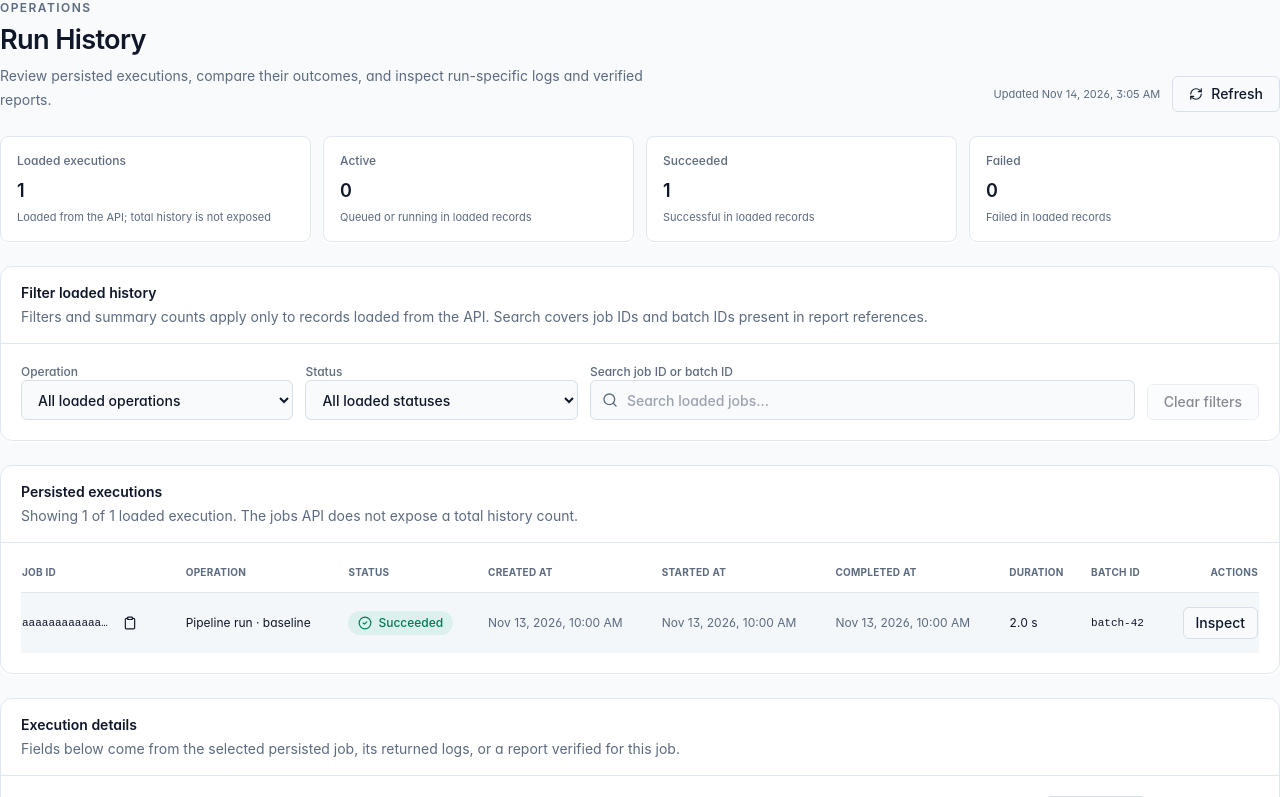
Scenario: RunHistoryPage › loads selected-run details, separate log streams, and an associated lineage link
Step 1. Click the button with aria-label "Inspect baseline job" → (1220, 623), box x1=1182 y1=607 x2=1258 y2=639
(page scrolled)
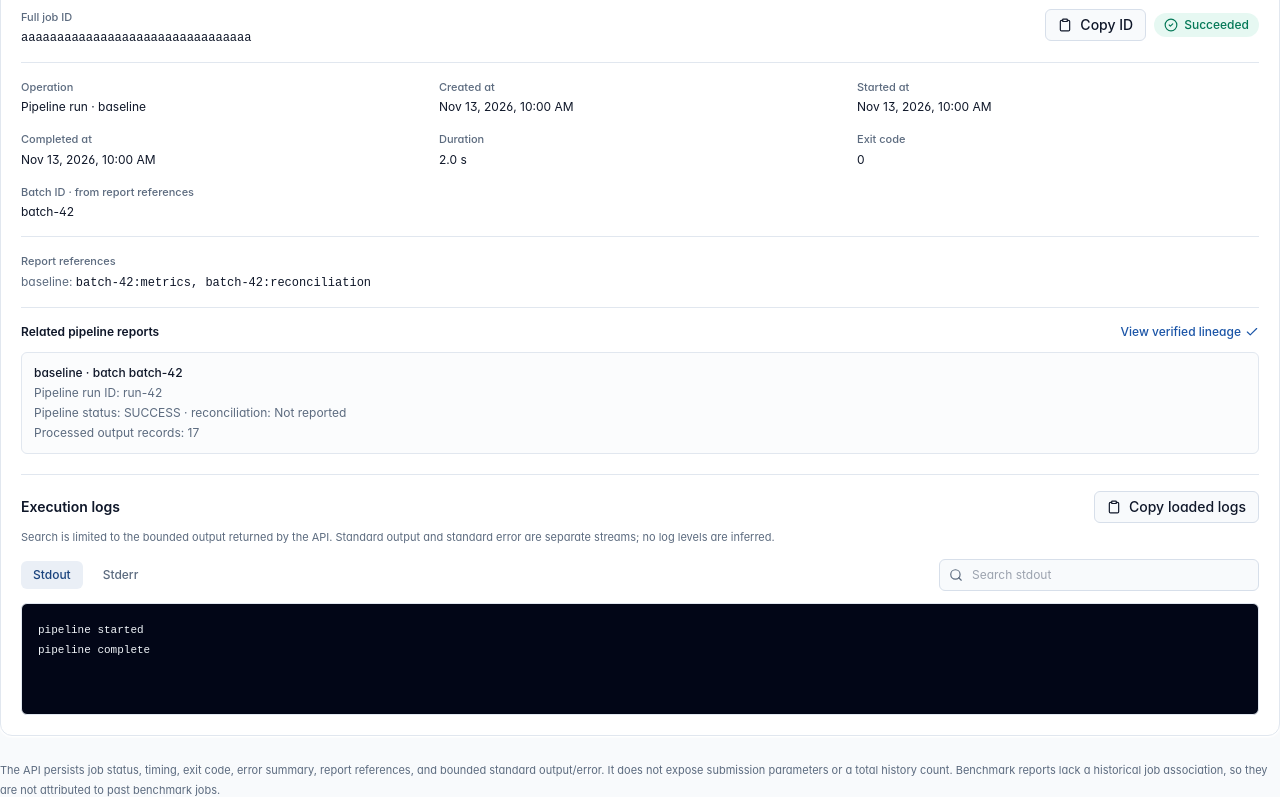
Expected: the text "Pipeline run ID: run-42" is shown, x1=34 y1=384 x2=162 y2=400
Step 2. Click the button "stderr" → (120, 574), box x1=91 y1=560 x2=150 y2=588
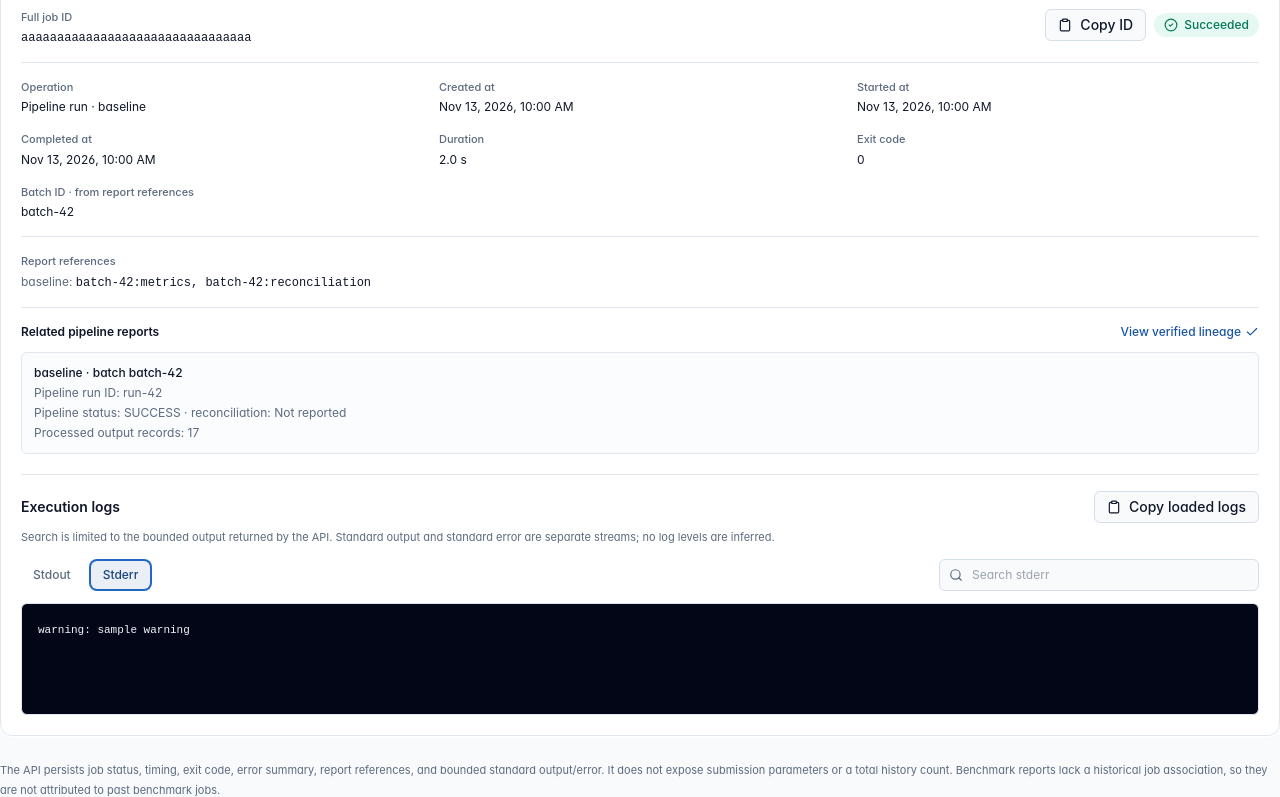
Expected: the text named "stderr execution log" reads "warning: sample warning", x1=38 y1=624 x2=190 y2=636
Step 3. Type "missing" into the search field named "Search loaded stderr logs" → (1099, 574), box x1=939 y1=558 x2=1259 y2=590
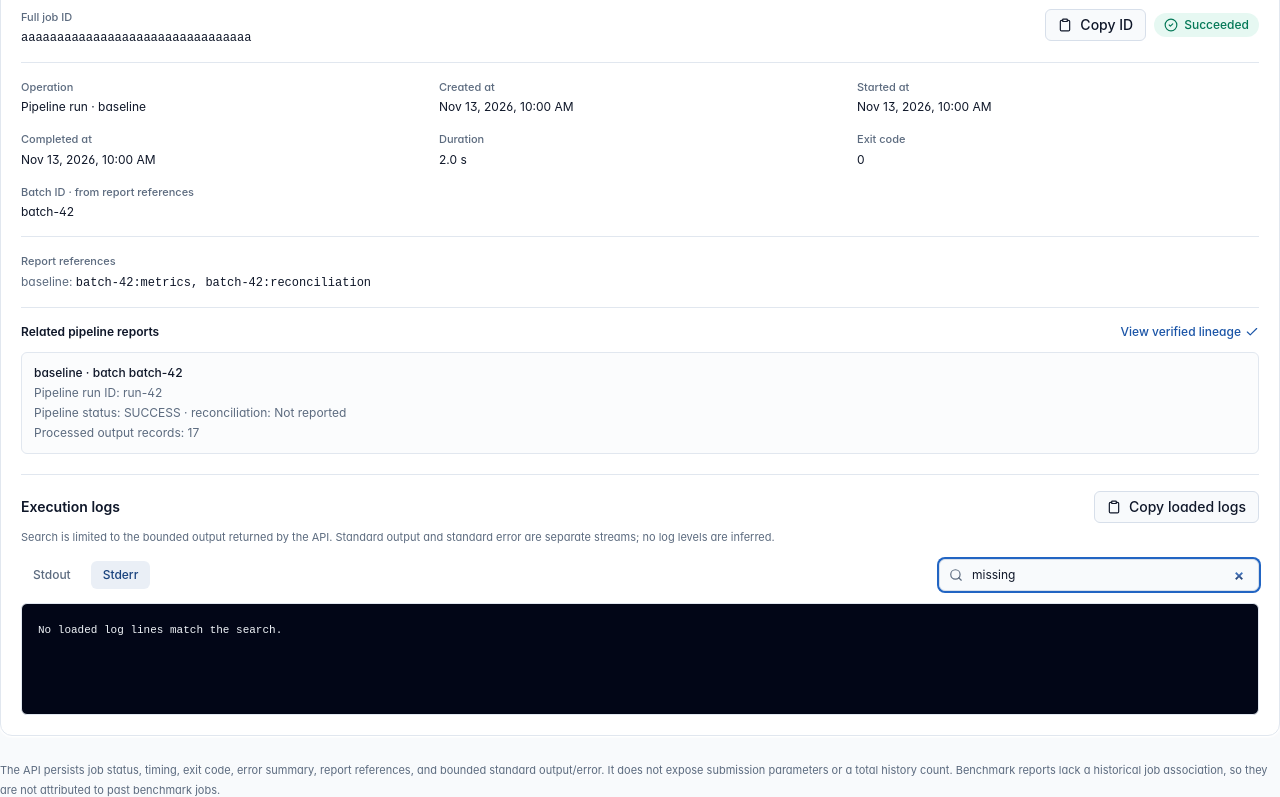
Expected: the text named "stderr execution log" reads "No loaded log lines match the search.", x1=38 y1=624 x2=282 y2=636
